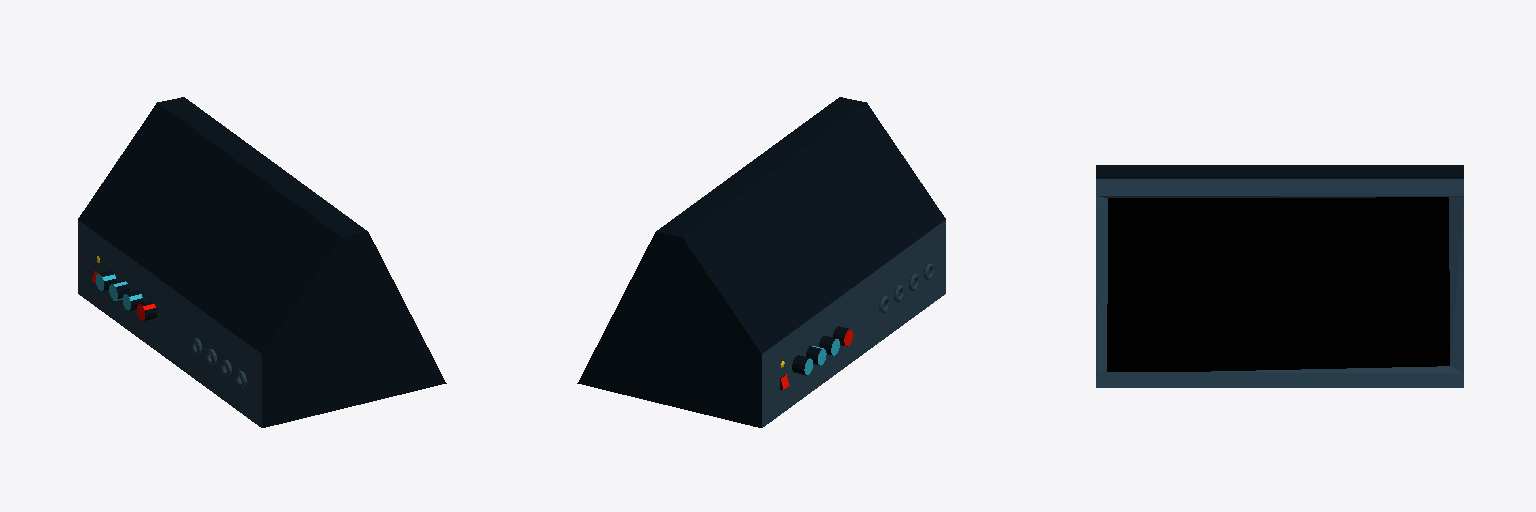
The picture shows the model from 3 angles: view 1: azimuth 30°, elevation 25°; view 2: azimuth 150°, elevation 25°; view 3: azimuth 270°, elevation 25°; orthographic projection.
Parts seen in each view (by area): view 1: group[number redacted]; view 2: group[number redacted]; view 3: group[number redacted].
Boxes of the visible parts, x1=… form: group[number redacted]: x1=78, y1=97, x2=446, y2=427; group[number redacted]: x1=577, y1=97, x2=945, y2=427; group[number redacted]: x1=1096, y1=165, x2=1463, y2=387.
Size of the model in its own units: 0.3821 by 0.3255 by 0.62.